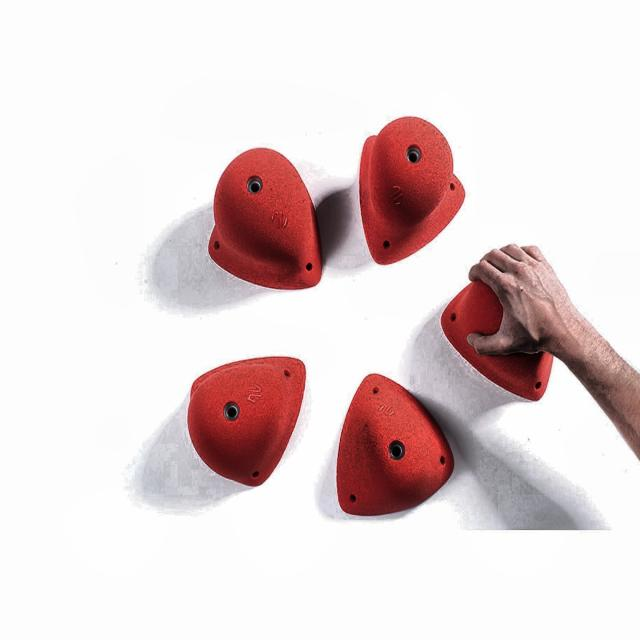Hold: (328, 375, 458, 514), (204, 145, 325, 287), (433, 268, 560, 402), (185, 356, 306, 486), (360, 119, 466, 262)
